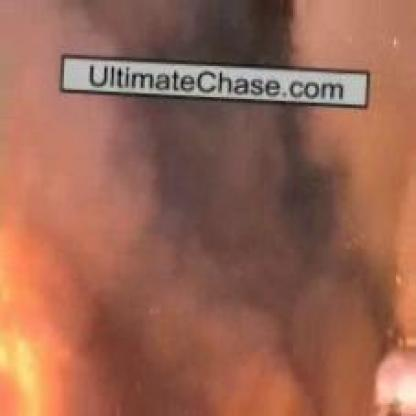smoke: (17, 6, 405, 392)
